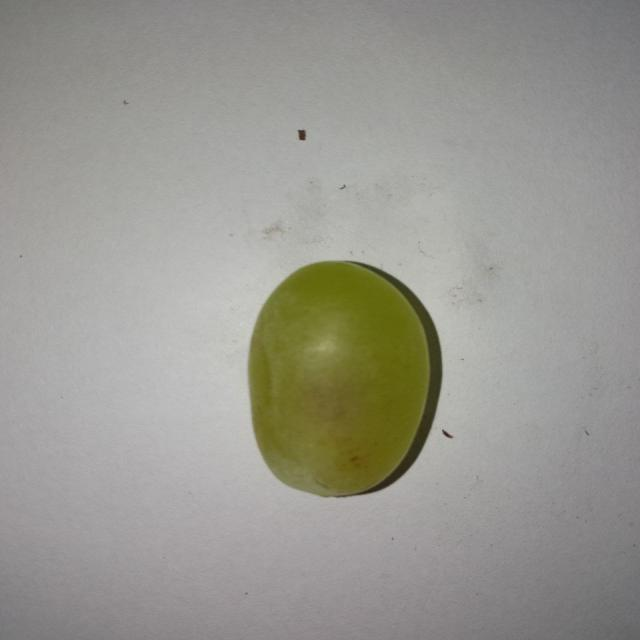fresh_grape: (251, 264, 426, 490)
